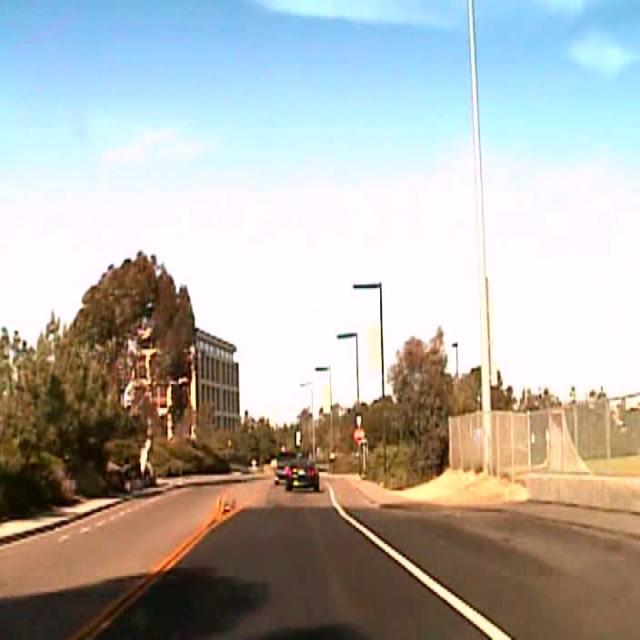stop_sign: (354, 428, 364, 443)
